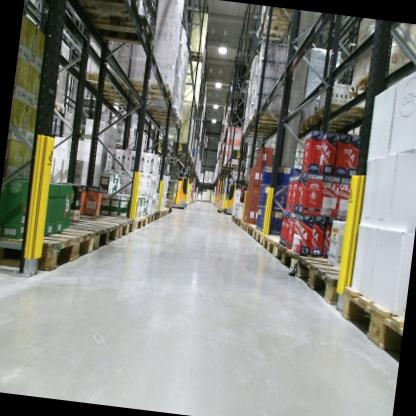pallet: (0, 212, 97, 279), (334, 285, 406, 361), (59, 0, 164, 52), (290, 252, 345, 305), (56, 213, 121, 257), (74, 64, 133, 101), (78, 209, 136, 243), (298, 113, 369, 140), (60, 0, 145, 17), (125, 77, 175, 105), (352, 67, 393, 101), (313, 101, 366, 127), (251, 18, 292, 45), (142, 107, 186, 132), (273, 242, 305, 274), (262, 233, 298, 259), (249, 104, 284, 129), (258, 6, 295, 25), (49, 93, 66, 115), (132, 212, 147, 233), (252, 228, 266, 245), (245, 221, 259, 238), (143, 209, 156, 226), (187, 50, 207, 61), (153, 207, 161, 222), (241, 219, 249, 234), (158, 208, 166, 221), (161, 208, 170, 218), (236, 216, 243, 228), (163, 200, 172, 208), (230, 213, 236, 223), (233, 217, 238, 225)
pallet_truck: (220, 163, 255, 220), (165, 160, 194, 211)
